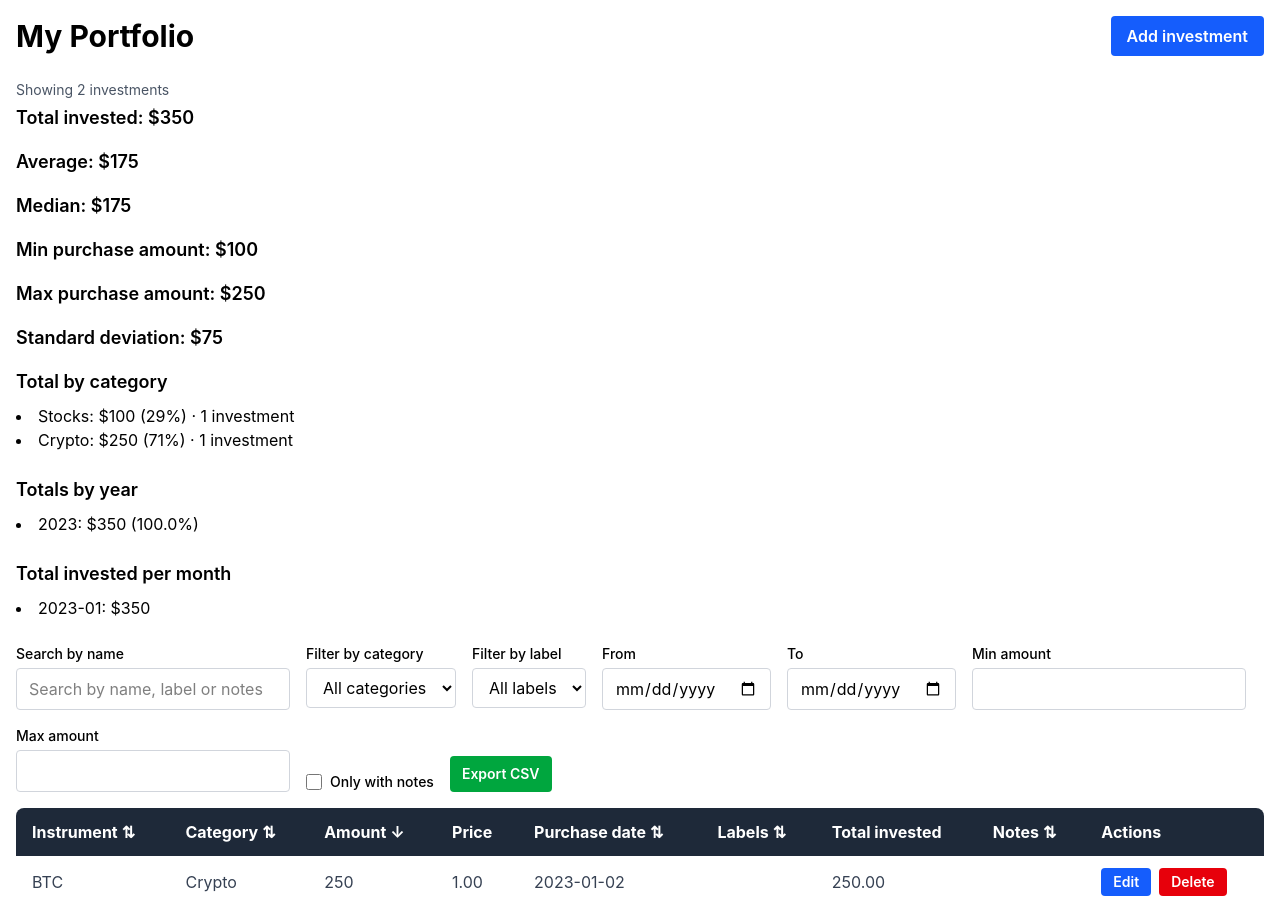
Test: HomePage › filtered investments count summary › AC-003: shows "Showing 0 investments" when the active filters match nothing
Type "no-such-instrument" into the field labelled "Search by name".
click(153, 689); type("no-such-instrument")  # box [16,668,290,710]
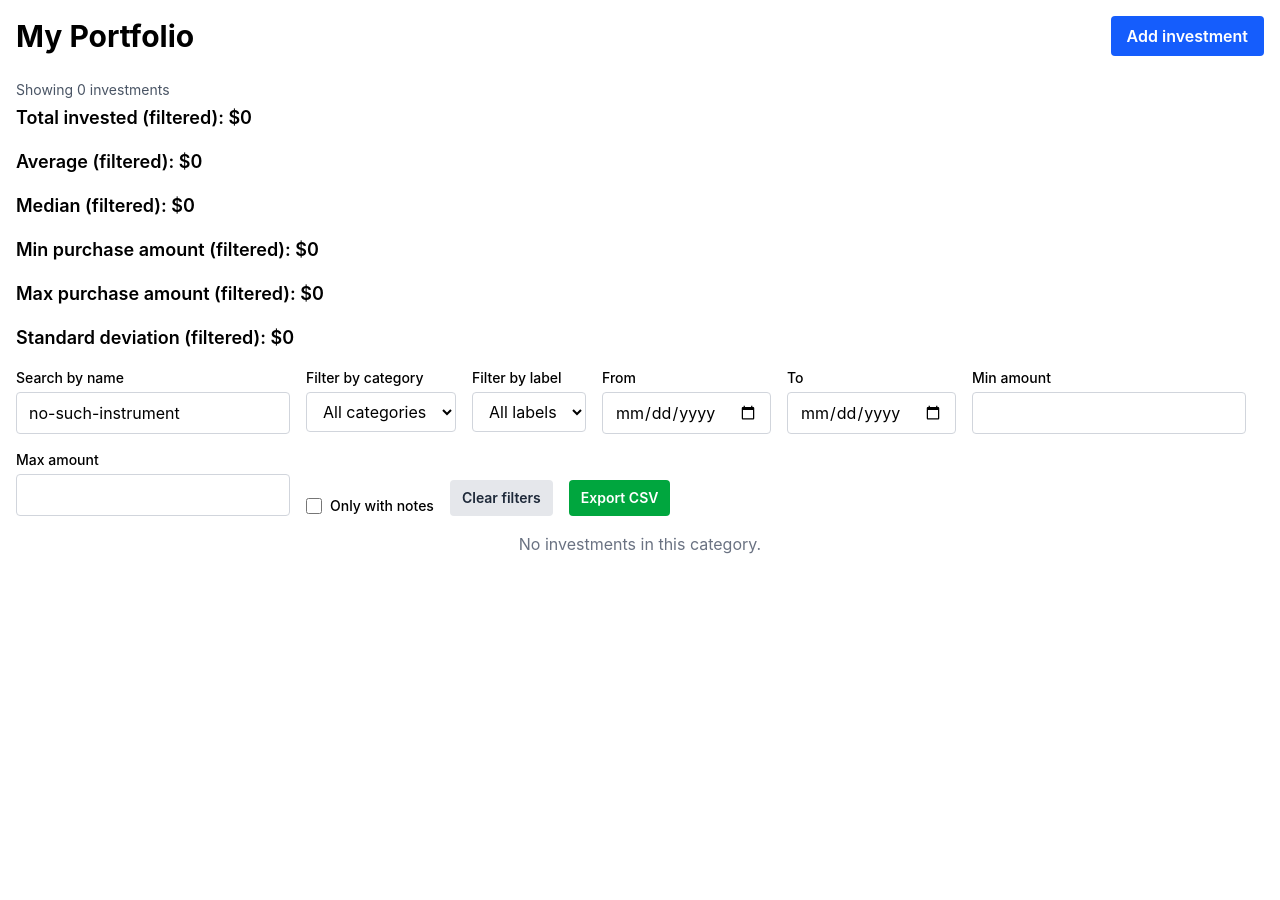
Result: the text "Showing 0 investments" is shown at [16,81,170,98]
